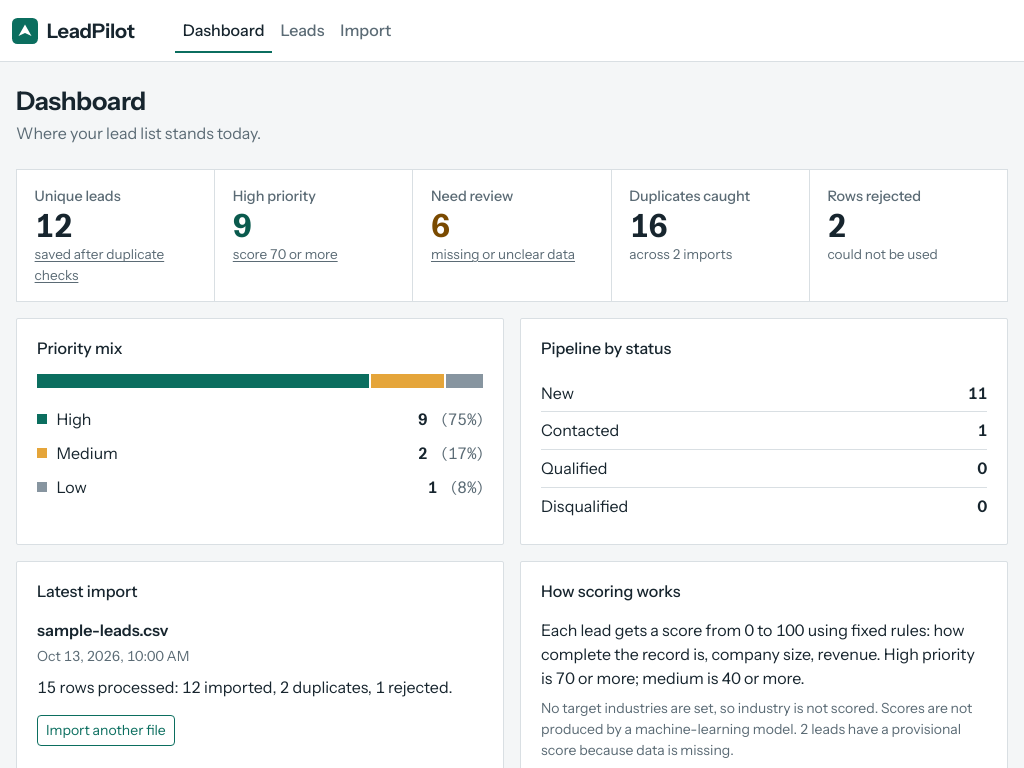
Test: App navigation › starts on the dashboard and moves between pages with the hash router
Expected: the heading "Dashboard" is shown, [16,85,146,116]
Step 1. Click the link "Leads" → point(302, 30), box [280,20,324,40]
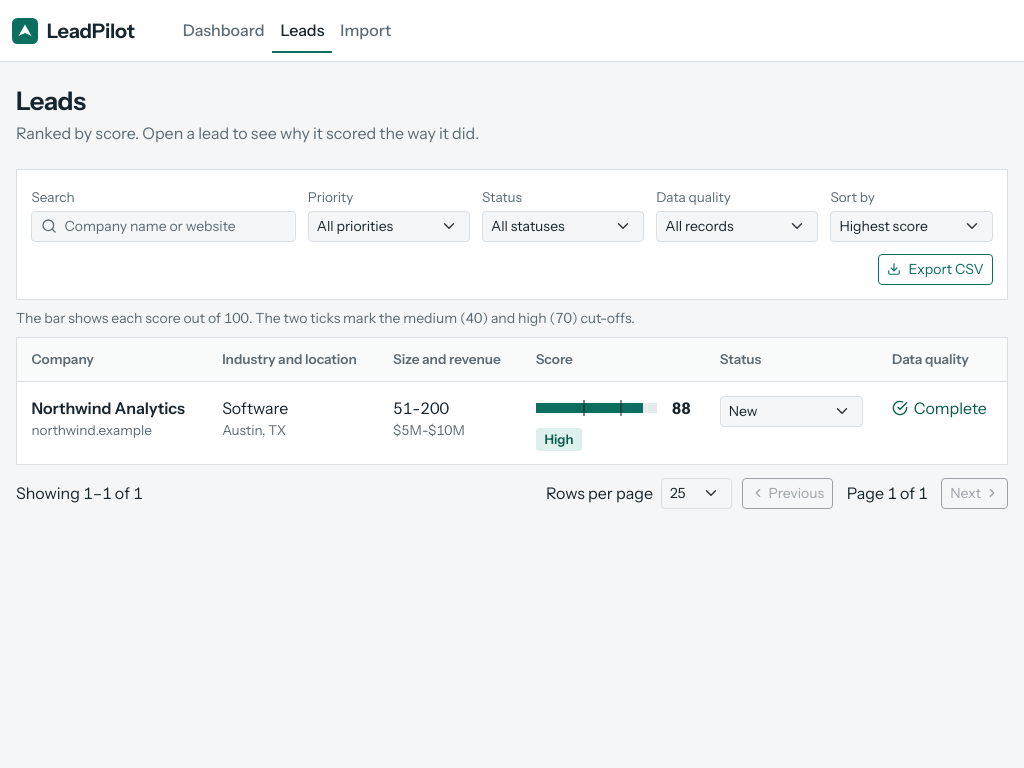
Result: the heading "Leads" is shown at [16,85,86,116]
Result: the button "Northwind Analytics" is shown at [31,396,185,420]
Step 2. Click the link "Import" → point(366, 30), box [340,20,391,40]
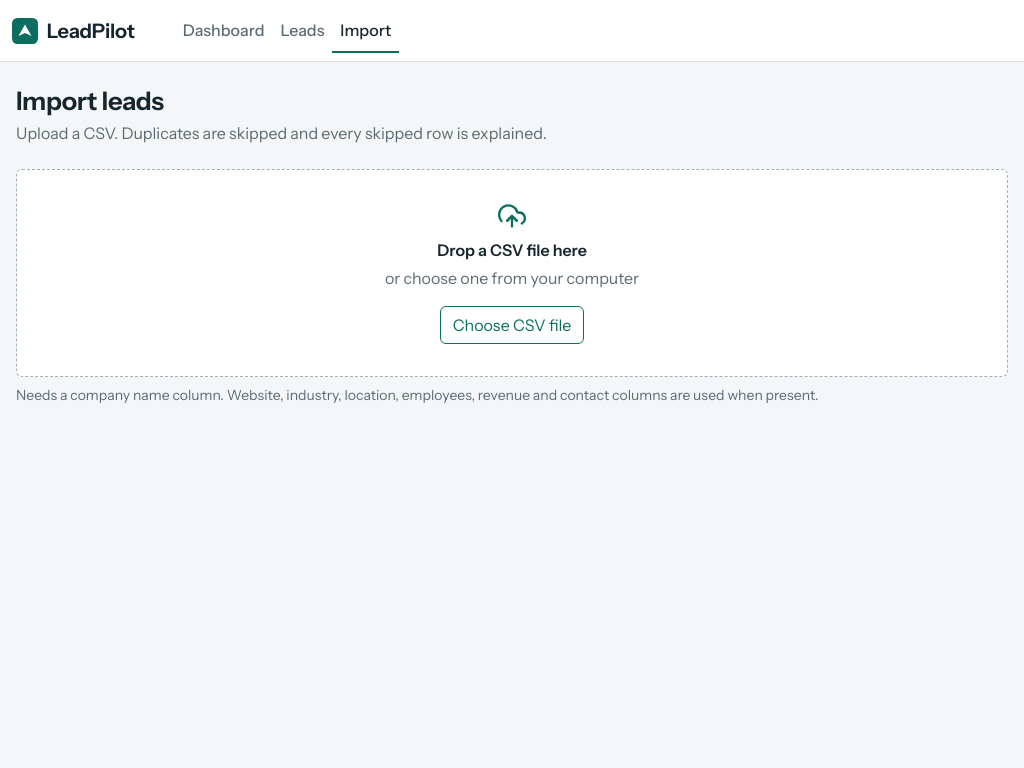
Result: the heading "Import leads" is shown at [16,85,164,116]
